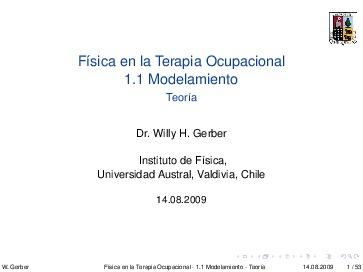title: (70, 46, 298, 116)
